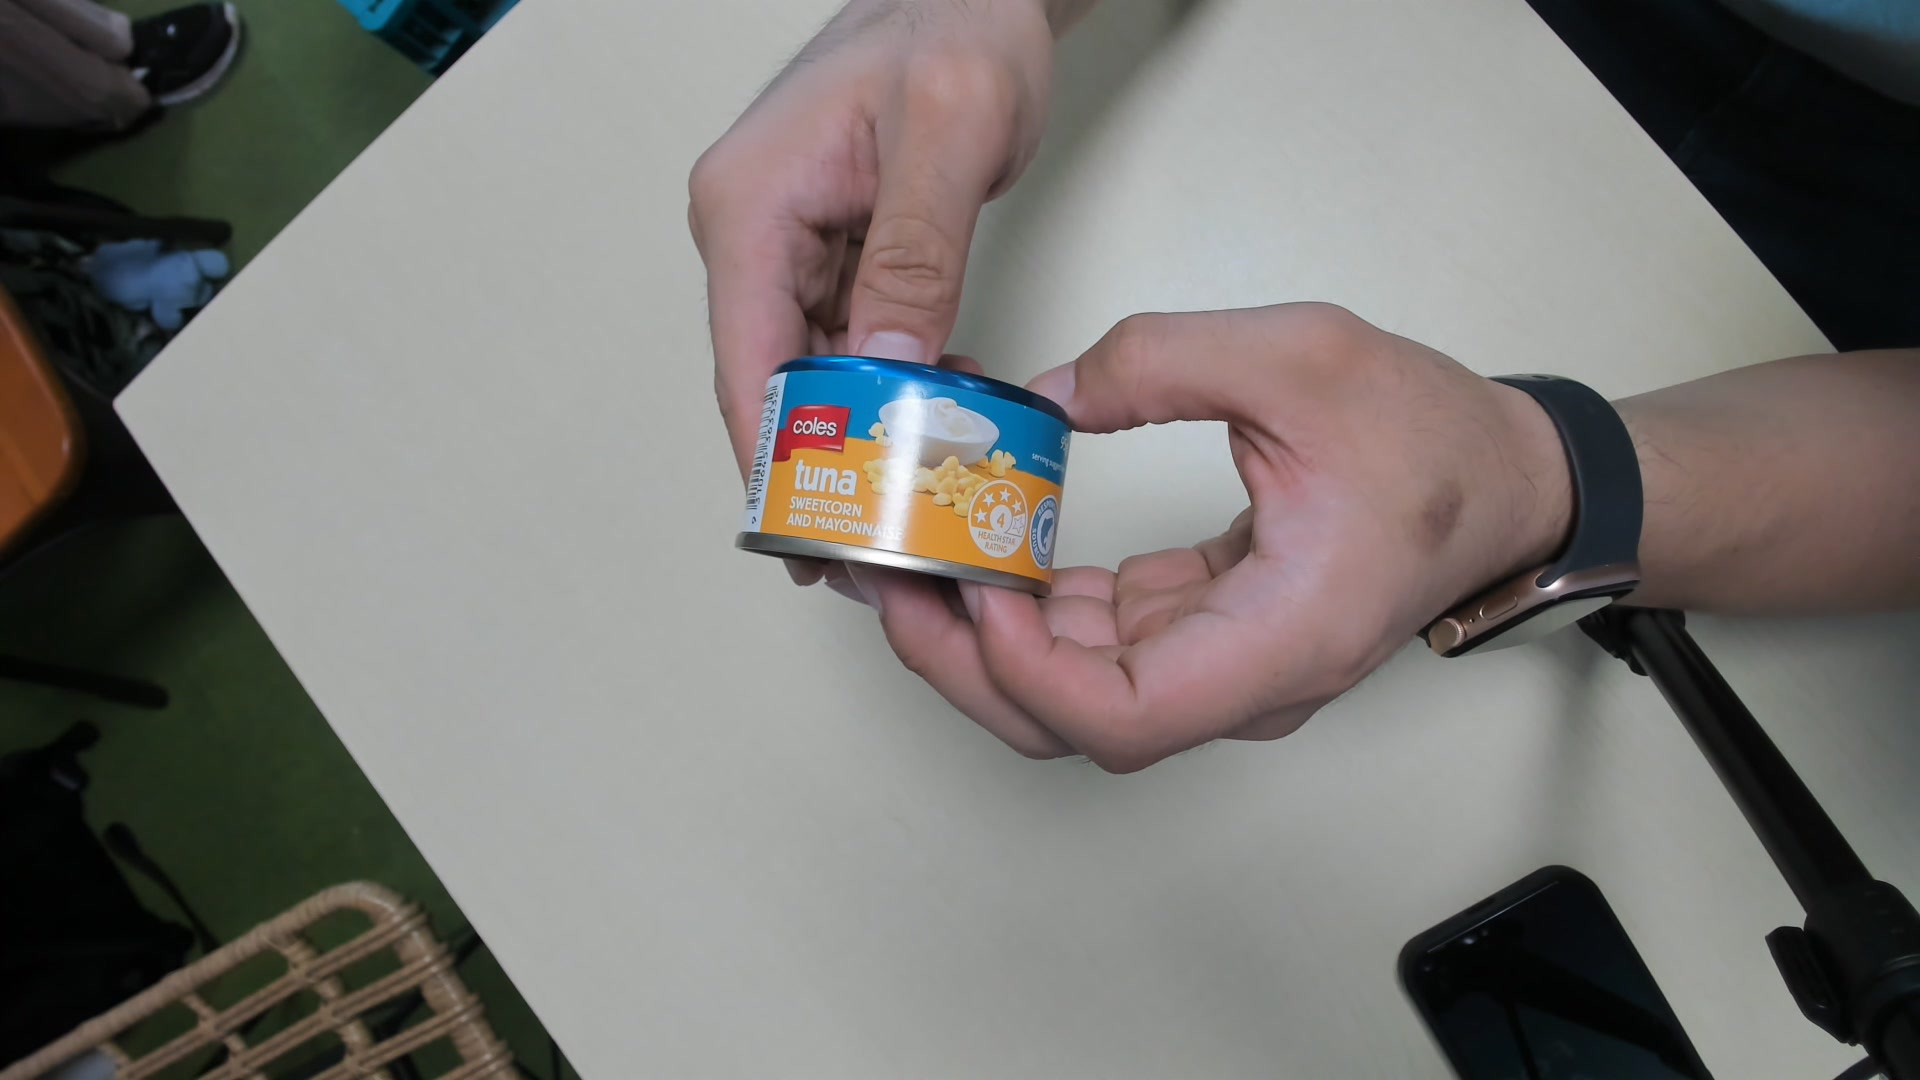OtherSauceDressing_0-99g_NonHalal_NonHealthy: (737, 356, 1085, 593)
